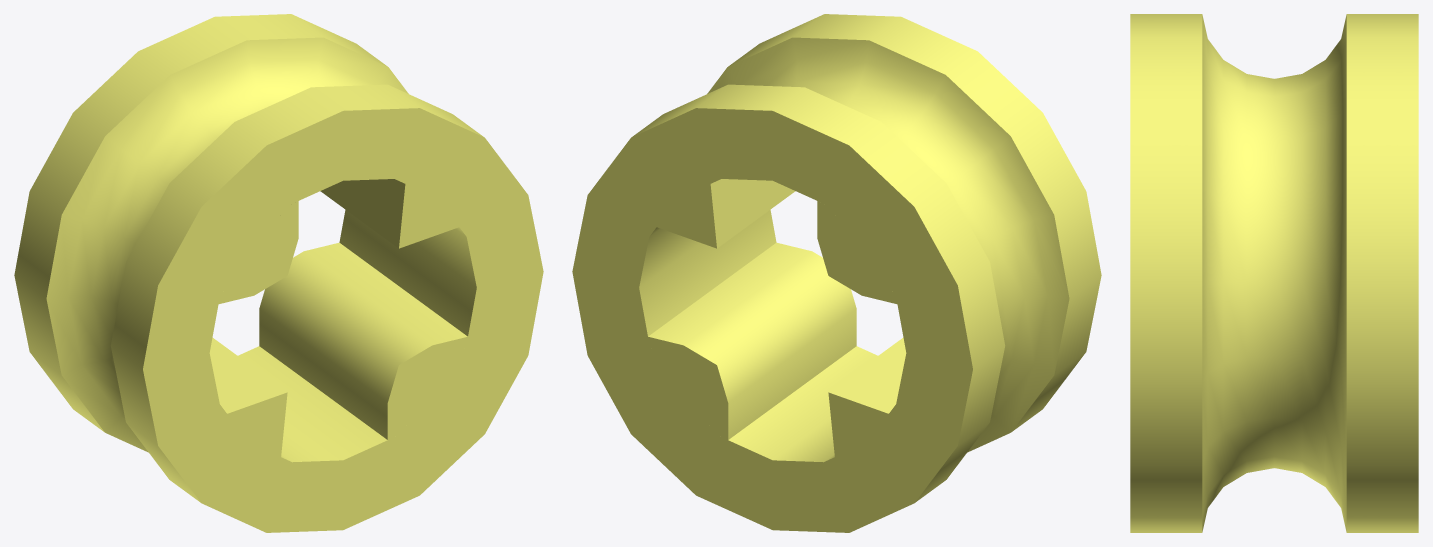
3 views of the same model, side by side, from view 1: azimuth 30°, elevation 25°; view 2: azimuth 150°, elevation 25°; view 3: azimuth 270°, elevation 25° (orthographic). The views are drawn at different scales.
Visible parts, largest first — view 1: 32123b.dat; view 2: 32123b.dat; view 3: 32123b.dat.
Boxes of the visible parts, x1=… form: 32123b.dat: x1=14, y1=14, x2=543, y2=532; 32123b.dat: x1=572, y1=14, x2=1101, y2=532; 32123b.dat: x1=1130, y1=14, x2=1418, y2=532.
Bounding box in the file's own units: 0.0072 × 0.0072 × 0.004.
